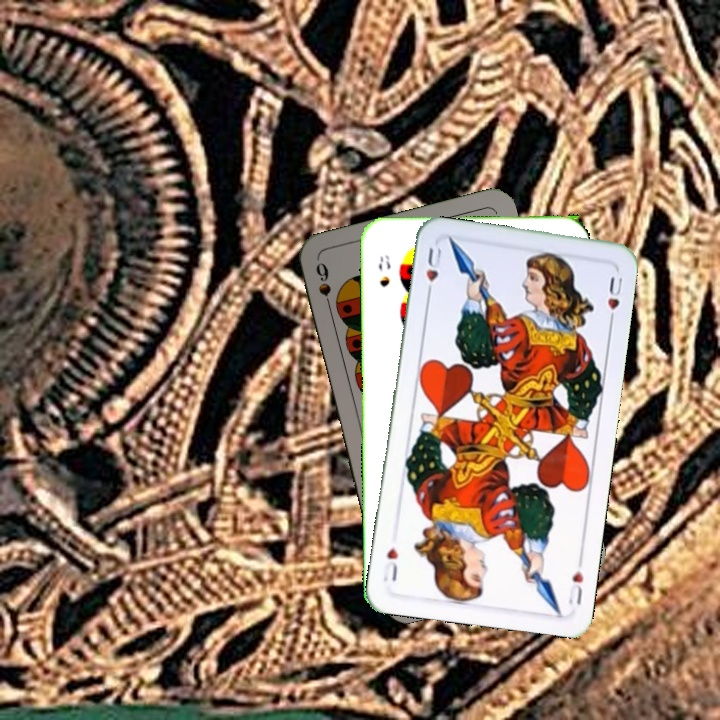HU: (422, 244, 444, 300), (564, 566, 586, 607)
S8: (374, 251, 393, 289)
S9: (311, 258, 336, 317)
